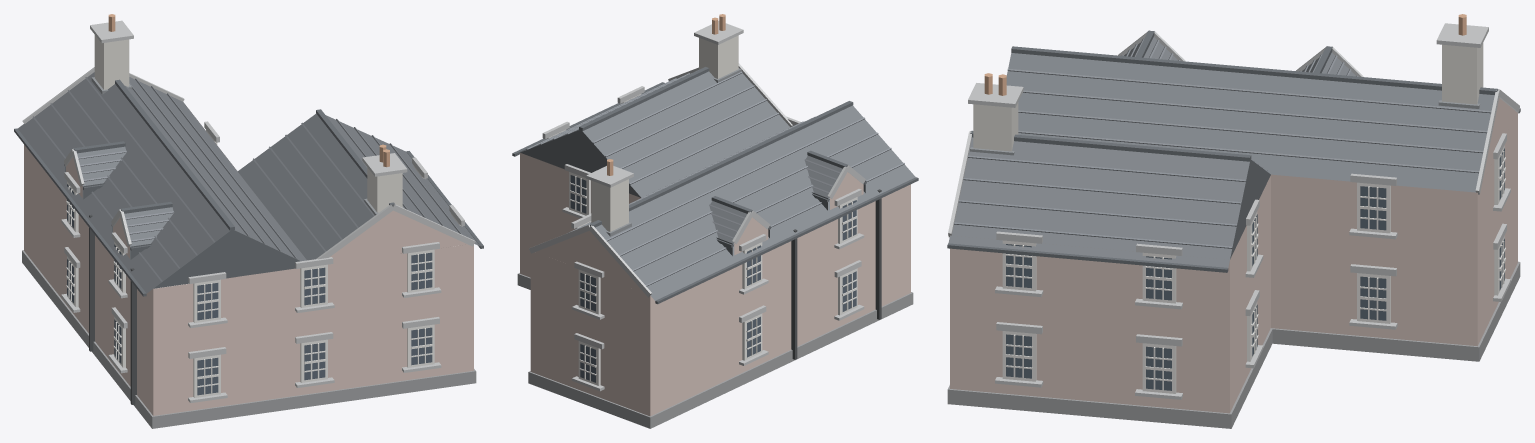
3 renders of one model, left to right at view 1: azimuth 30°, elevation 25°; view 2: azimuth 150°, elevation 25°; view 3: azimuth 270°, elevation 25°, orthographic. The views are drawn at different scales.
Parts seen in each view (by area): view 1: harl_pink, slate, stone_band, slate_dk, plinth, frame, slate_lt, chim_render, pipe, window_glass_009, window_glass_010, window_glass_008 (+3 smaller); view 2: harl_pink, slate, slate_dk, stone_band, slate_lt, plinth, frame, chim_render, pipe, window_glass_016, window_glass_019, window_glass_020 (+2 smaller); view 3: harl_pink, slate, stone_band, plinth, slate_lt, slate_dk, frame, chim_render, window_glass_017, window_glass_018, window_glass_011, window_glass_013 (+3 smaller).
Boxes of the visible parts, x1=… form: harl_pink: x1=24, y1=109, x2=473, y2=415; slate: x1=17, y1=72, x2=479, y2=293; stone_band: x1=22, y1=20, x2=475, y2=402; slate_dk: x1=14, y1=79, x2=483, y2=296; plinth: x1=22, y1=250, x2=476, y2=428; frame: x1=66, y1=130, x2=462, y2=397; slate_lt: x1=33, y1=77, x2=462, y2=281; chim_render: x1=94, y1=35, x2=402, y2=212; pipe: x1=89, y1=214, x2=136, y2=404; window_glass_009: x1=411, y1=327, x2=432, y2=365; window_glass_010: x1=411, y1=252, x2=432, y2=290; window_glass_008: x1=304, y1=267, x2=325, y2=305; harl_pink: x1=520, y1=153, x2=910, y2=416; slate: x1=516, y1=71, x2=915, y2=300; slate_dk: x1=512, y1=67, x2=918, y2=304; stone_band: x1=529, y1=21, x2=865, y2=391; slate_lt: x1=526, y1=71, x2=904, y2=286; plinth: x1=517, y1=273, x2=913, y2=428; frame: x1=547, y1=94, x2=857, y2=385; chim_render: x1=591, y1=35, x2=738, y2=231; pipe: x1=791, y1=189, x2=881, y2=359; window_glass_016: x1=570, y1=175, x2=586, y2=213; window_glass_019: x1=580, y1=344, x2=595, y2=382; window_glass_020: x1=580, y1=272, x2=595, y2=311; harl_pink: x1=950, y1=98, x2=1517, y2=413; slate: x1=948, y1=37, x2=1494, y2=267; stone_band: x1=948, y1=23, x2=1519, y2=399; plinth: x1=947, y1=261, x2=1520, y2=428; slate_lt: x1=954, y1=38, x2=1491, y2=248; slate_dk: x1=947, y1=30, x2=1520, y2=272; frame: x1=1002, y1=145, x2=1505, y2=393; chim_render: x1=973, y1=43, x2=1483, y2=151; window_glass_017: x1=1360, y1=276, x2=1386, y2=320; window_glass_018: x1=1360, y1=186, x2=1386, y2=230; window_glass_011: x1=1006, y1=334, x2=1031, y2=378; window_glass_013: x1=1146, y1=346, x2=1171, y2=390.
Size of the model in its own units: 13.54 by 9.27 by 16.08.
